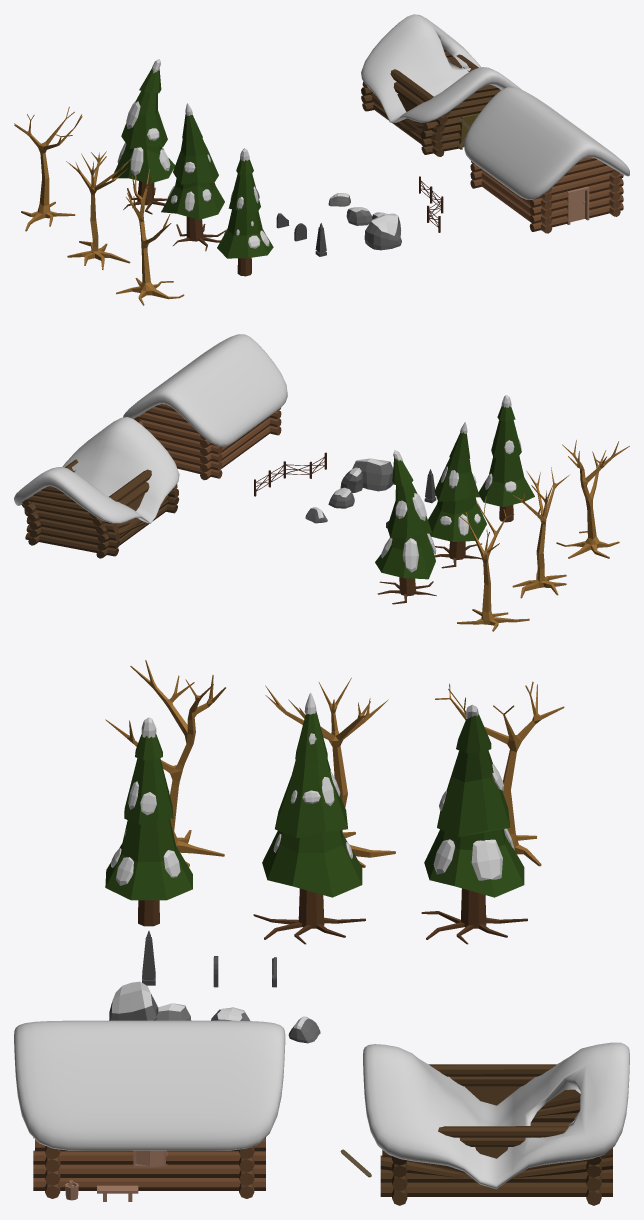
Rendered from Homes.assets.fbx.
The picture shows the model from 3 angles, top to bottom: view 1: azimuth 30°, elevation 25°; view 2: azimuth 150°, elevation 25°; view 3: azimuth 270°, elevation 25°; orthographic projection. The views are drawn at different scales.
Parts seen in each view (by area): view 1: Hous_inhabited, Hous_uninhabited, Fir_3, Fir_2, Snow_blob_1, Tile, Tile.001, Tile.002, Rock_L, Rock_M; view 2: Hous_uninhabited, Hous_inhabited, Fir_3, Fir_2, Snow_blob_1, Tile, Tile.001, Tile.002, Rock_L, Rock_M; view 3: Hous_inhabited, Hous_uninhabited, Fir_3, Fir_2, Snow_blob_1, Tile, Tile.001, Tile.002, Rock_L.
Part boxes in pixels (box(x1,y1,x2,y2)): Hous_inhabited: box(464, 87, 629, 233); Hous_uninhabited: box(361, 14, 521, 156); Fir_3: box(112, 59, 175, 214); Fir_2: box(161, 103, 225, 251); Snow_blob_1: box(217, 148, 273, 276); Tile: box(116, 169, 184, 305); Tile.001: box(66, 151, 132, 269); Tile.002: box(14, 106, 82, 231); Rock_L: box(364, 212, 401, 250); Rock_M: box(346, 207, 372, 225); Hous_uninhabited: box(14, 417, 179, 558); Hous_inhabited: box(123, 334, 287, 480); Fir_3: box(375, 450, 436, 604); Fir_2: box(428, 422, 486, 568); Snow_blob_1: box(478, 395, 534, 522); Tile: box(556, 440, 629, 558); Tile.001: box(512, 467, 569, 598); Tile.002: box(457, 496, 529, 631); Rock_L: box(340, 458, 393, 492); Rock_M: box(328, 487, 354, 508); Hous_inhabited: box(14, 1020, 285, 1201); Hous_uninhabited: box(340, 1042, 629, 1205); Fir_3: box(421, 704, 527, 944); Fir_2: box(253, 692, 365, 944); Snow_blob_1: box(105, 717, 192, 926); Tile: box(105, 660, 226, 866); Tile.001: box(265, 677, 395, 867); Tile.002: box(435, 681, 564, 866); Rock_L: box(109, 981, 191, 1020).
Size of the model in its own units: 6333 by 1819 by 4311.
